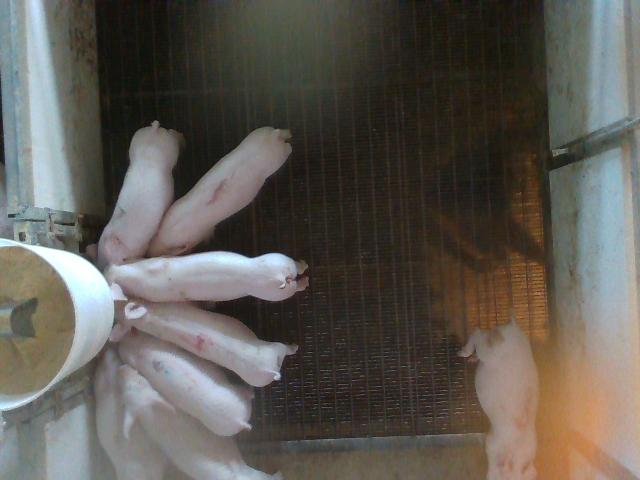pig-1: (148, 126, 291, 256)
pig-3: (461, 319, 539, 478)
pig-4: (109, 286, 297, 386)
